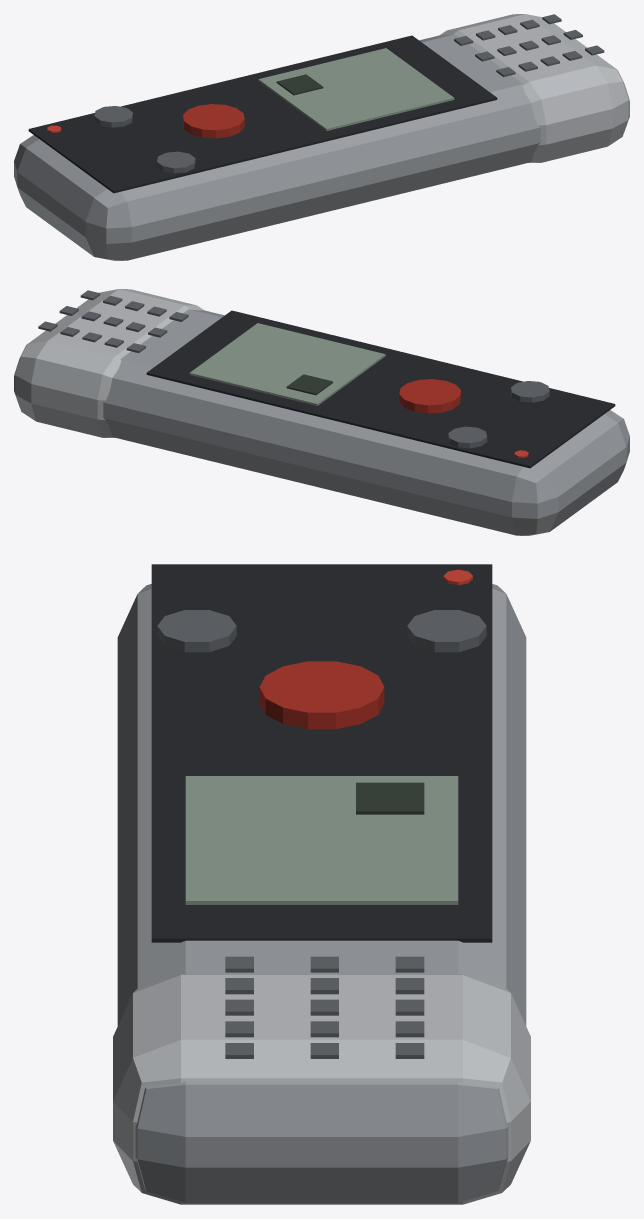
The model's file is recorder.glb.
3 renders of one model, top to bottom at view 1: azimuth 30°, elevation 25°; view 2: azimuth 150°, elevation 25°; view 3: azimuth 270°, elevation 25°, orthographic. The views are drawn at different scales.
Visible parts, largest first — view 1: recorder_vc; view 2: recorder_vc; view 3: recorder_vc.
Boxes of the visible parts, x1,y1,x2,y2 form: recorder_vc: (14,14,629,260); recorder_vc: (14,289,629,535); recorder_vc: (113,564,530,1204).
Size of the model in its own units: 0.11 by 0.0172 by 0.0368.
